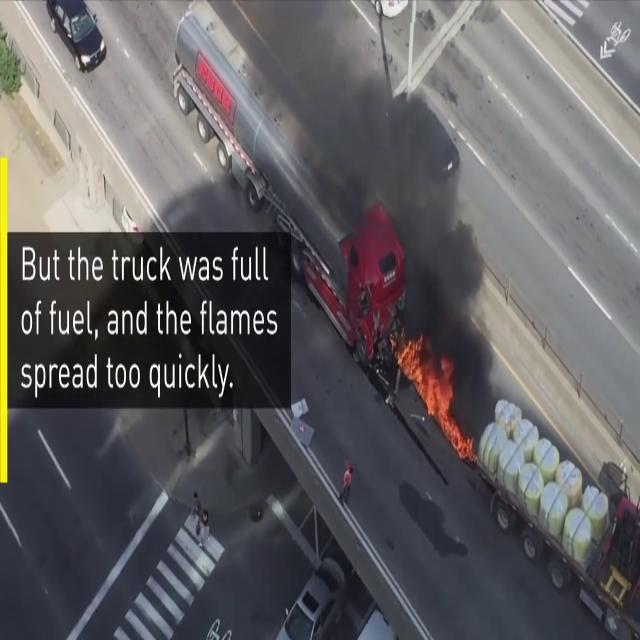Fire: (398, 327, 460, 443)
Smoke: (278, 3, 488, 237), (377, 58, 495, 418)
